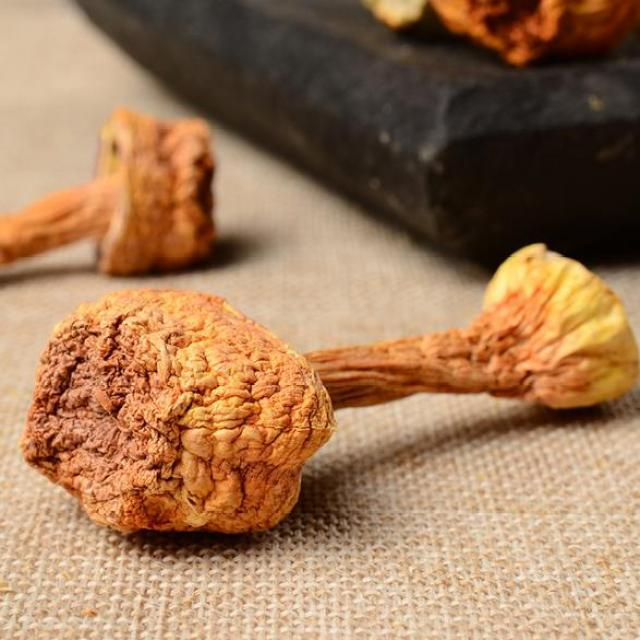Agaricus blazei Murill: (28, 248, 614, 537), (0, 111, 221, 268)
